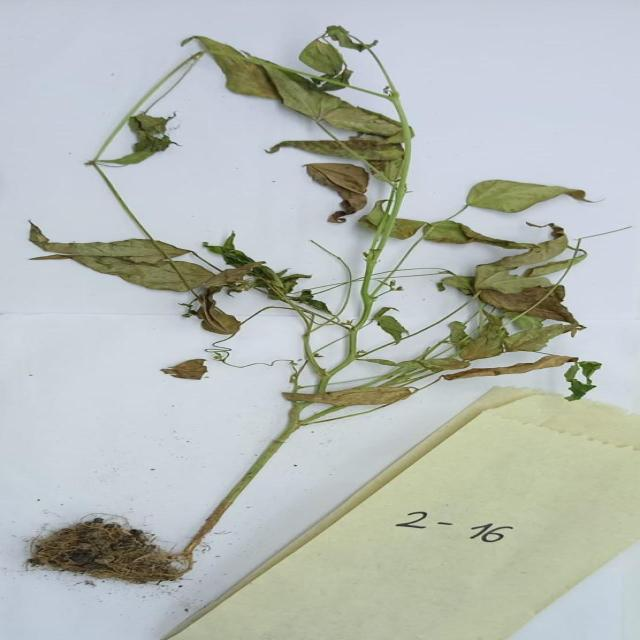Root: (27, 514, 214, 588)
Stem: (360, 63, 426, 236), (212, 422, 297, 514), (89, 49, 144, 172), (281, 315, 370, 387), (70, 166, 168, 219), (364, 236, 400, 330)
rooten_leaf: (263, 67, 401, 165), (467, 256, 591, 326), (18, 220, 196, 265), (419, 215, 598, 258), (187, 35, 293, 102), (466, 175, 608, 216), (71, 260, 261, 290), (297, 160, 377, 226), (446, 322, 583, 354), (183, 284, 258, 340), (275, 386, 437, 409), (438, 353, 579, 377), (153, 356, 209, 384)
